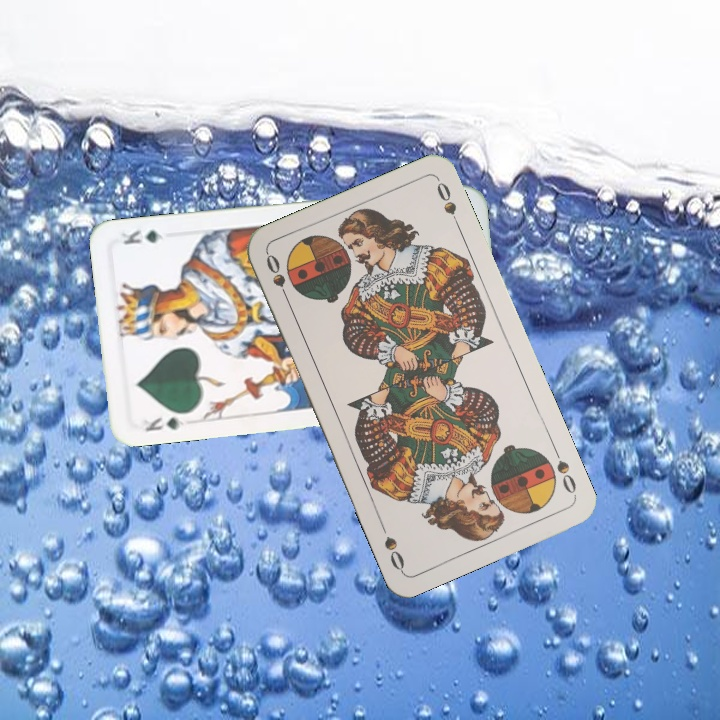GK: (141, 413, 187, 434)
SO: (262, 249, 293, 306), (549, 443, 579, 499)
